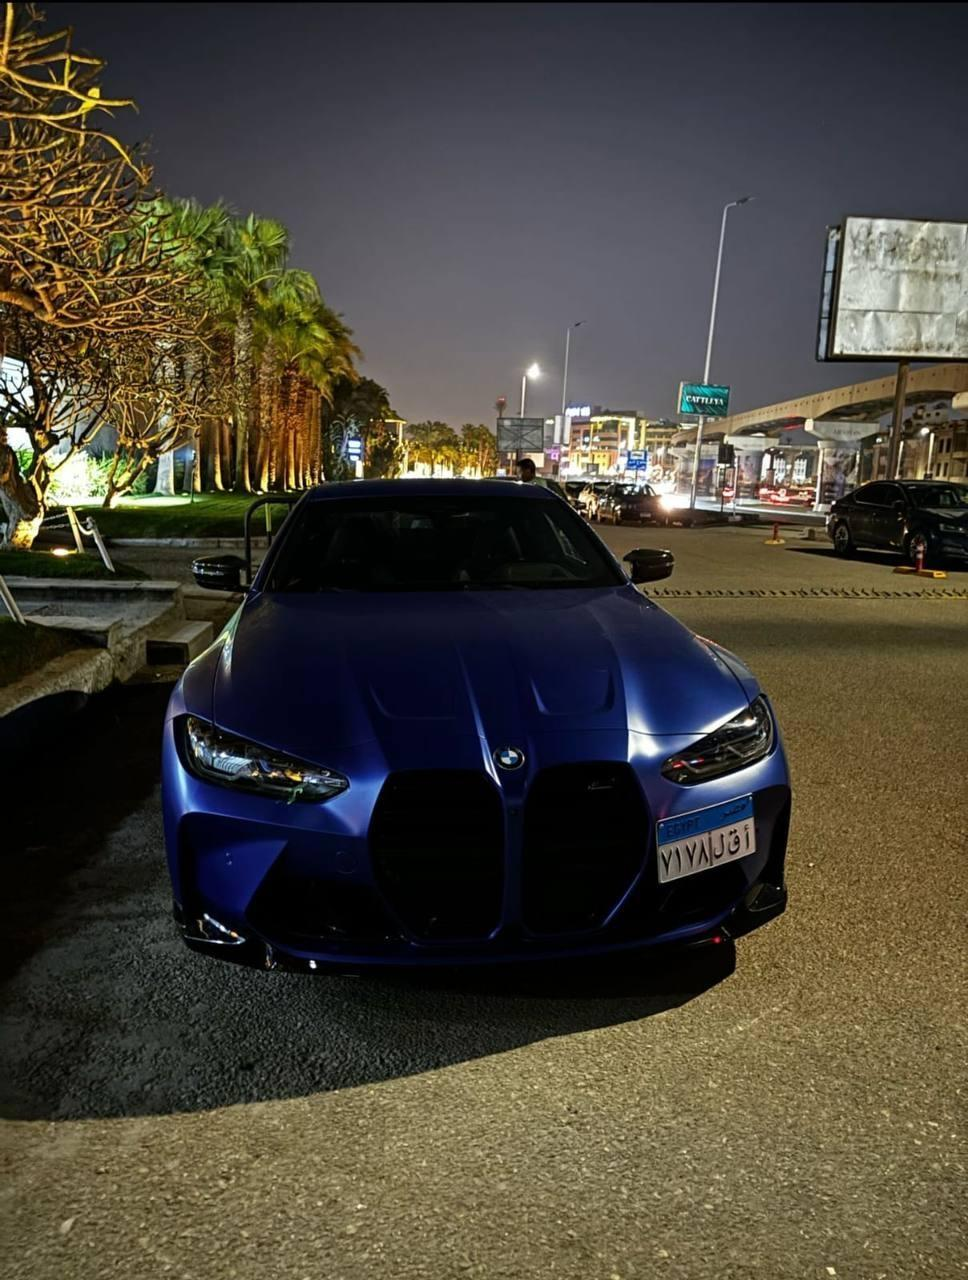1: (670, 836, 686, 878)
7: (658, 843, 676, 877), (684, 838, 699, 868)
8: (698, 838, 710, 864)
Laam: (714, 831, 726, 860)
License Plate: (645, 784, 767, 898)
Q: (728, 828, 743, 856)
alef: (742, 824, 753, 851)
